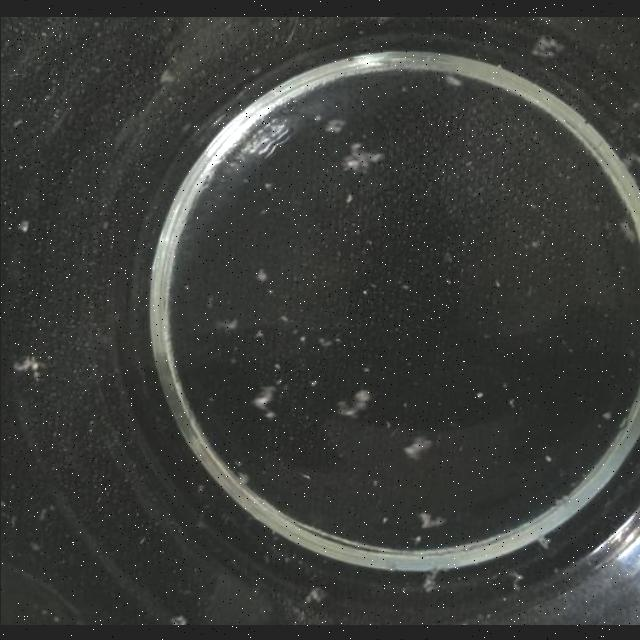Fibre: (340, 140, 384, 172), (336, 387, 374, 417), (530, 34, 564, 60), (252, 383, 278, 413), (12, 355, 42, 381), (402, 436, 432, 459), (416, 510, 444, 528), (618, 216, 636, 242), (420, 570, 440, 592), (304, 586, 326, 604), (324, 116, 344, 132), (216, 316, 238, 330), (234, 469, 250, 485), (165, 614, 187, 624), (536, 534, 550, 548), (256, 267, 266, 281)
